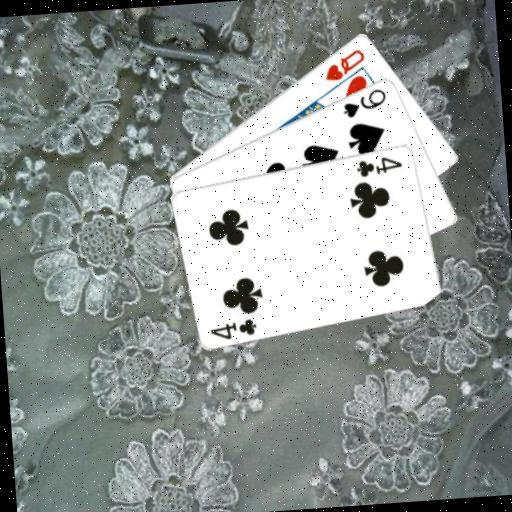4C: (206, 315, 260, 343), (353, 152, 405, 179)
9S: (339, 85, 390, 120)
QH: (320, 46, 368, 84)
